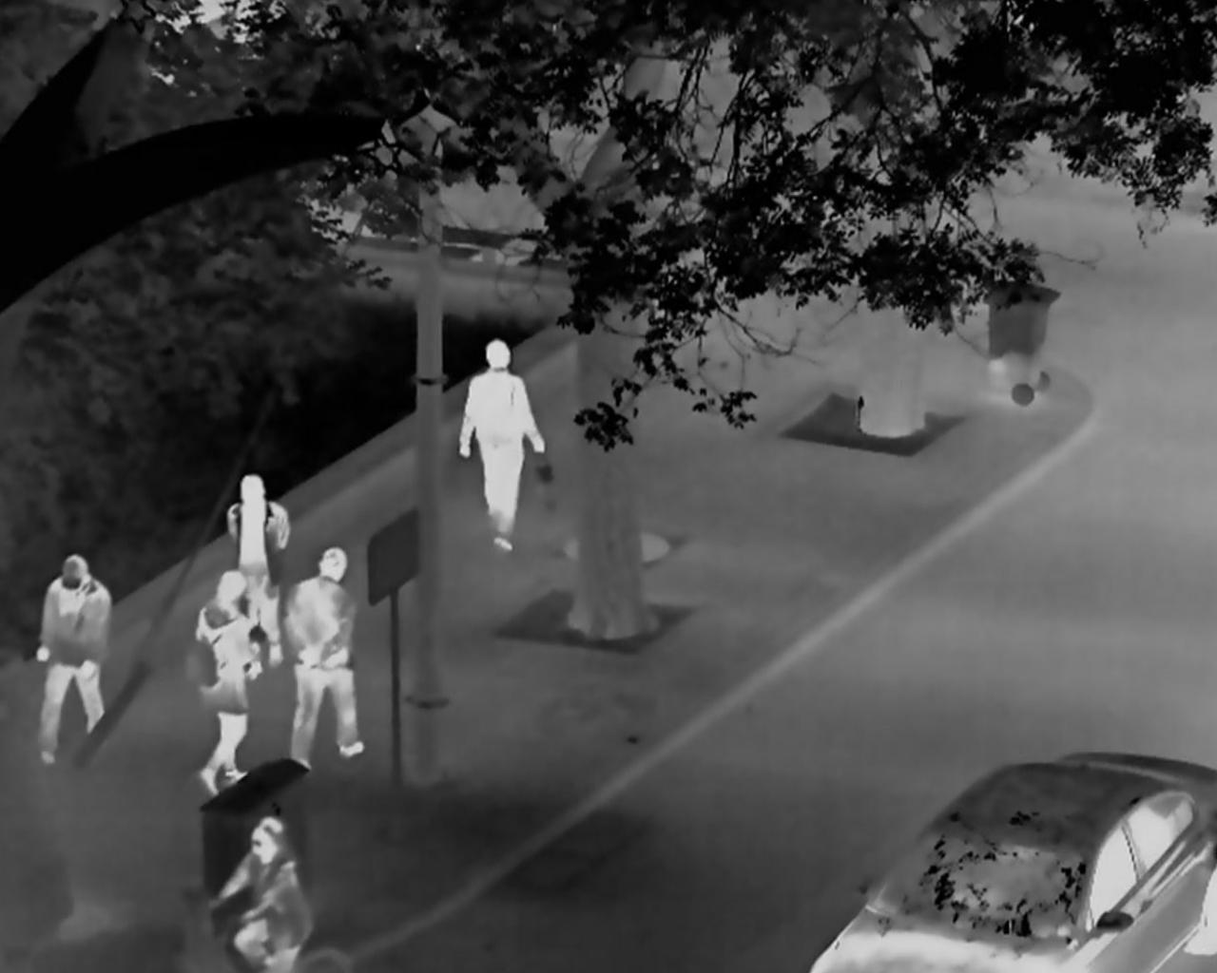person: (280, 546, 365, 770), (459, 337, 546, 553), (184, 571, 266, 795), (210, 815, 315, 973), (37, 553, 111, 766), (224, 474, 290, 671)
